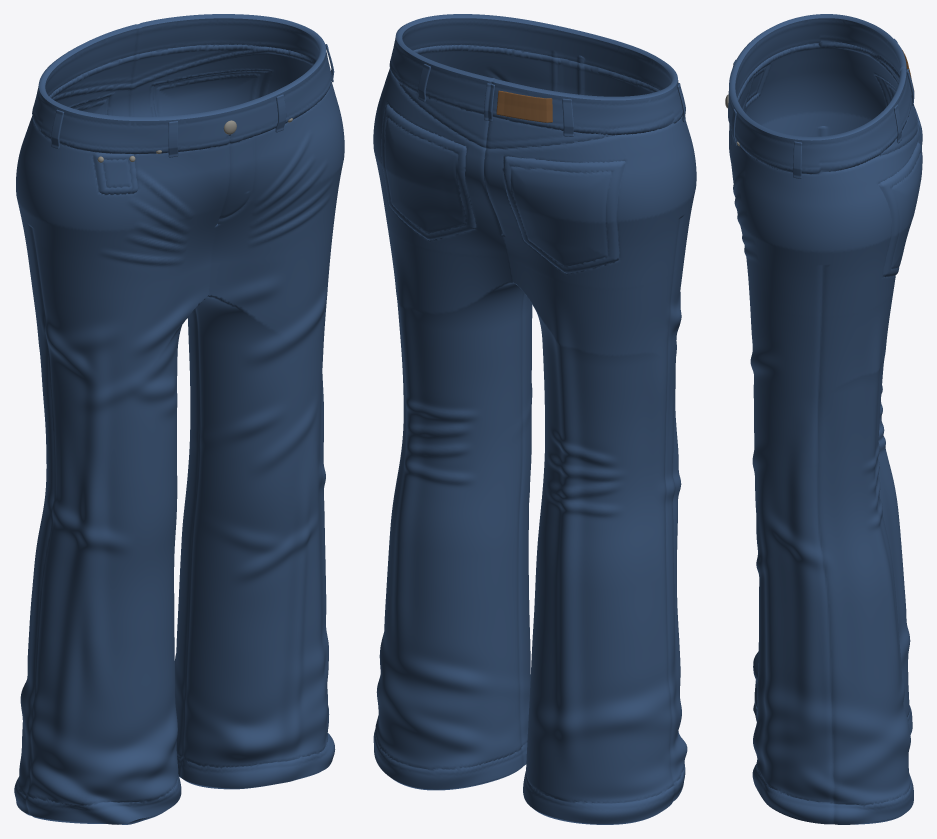
File: 26_vaquero_bootcut.glb
3 views of the same model, side by side, from view 1: azimuth 30°, elevation 25°; view 2: azimuth 150°, elevation 25°; view 3: azimuth 270°, elevation 25° (orthographic). The views are drawn at different scales.
Parts seen in each view (by area): view 1: body; view 2: body, trim; view 3: body.
Part boxes in pixels (x1,y1,x2,y2): body: [14, 14, 344, 824]; body: [373, 14, 696, 824]; trim: [496, 90, 552, 122]; body: [728, 14, 922, 824].
Size of the model in its own units: 0.4267 by 0.9861 by 0.2516.
